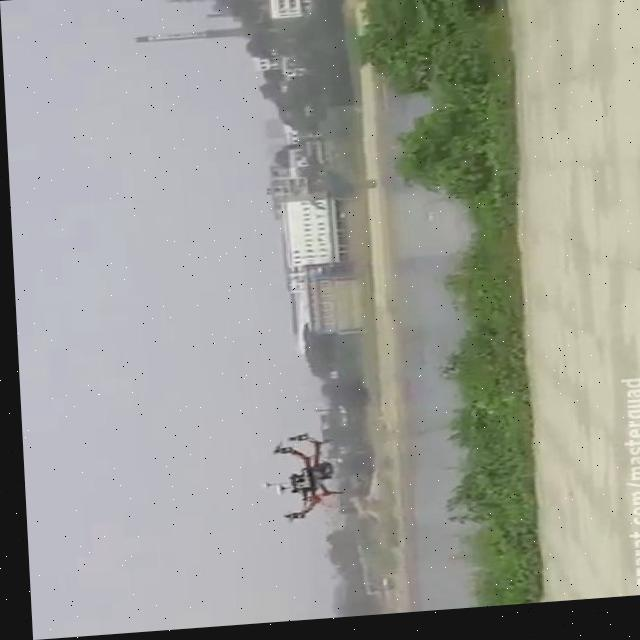drone: (249, 432, 340, 532)
